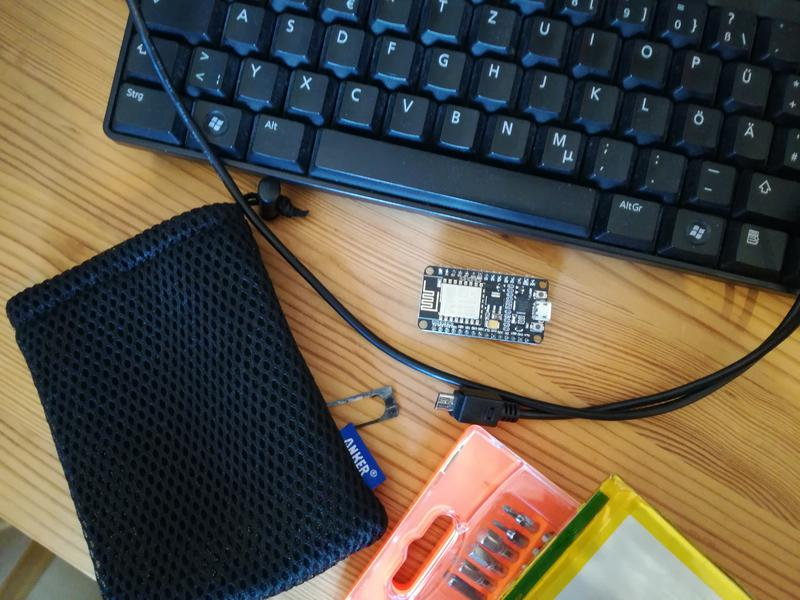ESP8266: (414, 261, 555, 352)
